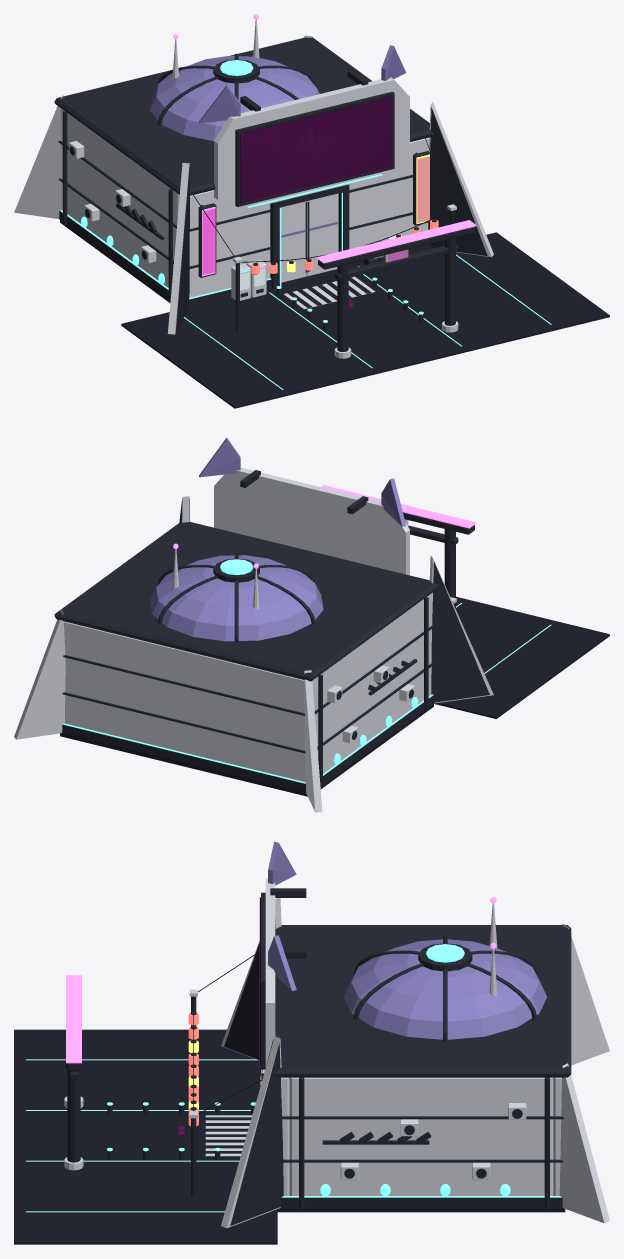
Rendered from SummonHall.fbx.
The picture shows the model from 3 angles, top to bottom: view 1: azimuth 30°, elevation 25°; view 2: azimuth 150°, elevation 25°; view 3: azimuth 270°, elevation 25°; orthographic projection. The views are drawn at different scales.
Visible parts, largest first — view 1: Floor_Plaza__floor, Deco_graphite__graphite, Deco_pearl__pearl, Roof_Main__graphite, Deco_screen__screen, MK_Screen, Wall_L__pearl, Deco_lavender__lavender, Wall_FrontL__pearl, Wall_FrontR__pearl, Deco_bio__bio, Deco_magenta__magenta (+7 smaller); view 2: Wall_Back__pearl, Roof_Main__graphite, Deco_pearl__pearl, Deco_graphite__graphite, Deco_lavender__lavender, Floor_Plaza__floor, Wall_L__pearl, Deco_bio__bio, Floor_Main__floor, Deco_magenta__magenta; view 3: Floor_Plaza__floor, Roof_Main__graphite, Wall_R__pearl, Deco_graphite__graphite, Deco_lavender__lavender, Deco_pearl__pearl, Deco_bio__bio, Deco_magenta__magenta, Floor_Main__floor, Deco_floor__floor, Wall_Back__pearl, Wall_FrontR__pearl (+1 smaller).
Boxes of the visible parts, bbox=[...] form: Floor_Plaza__floor: bbox=[121, 232, 609, 408]; Deco_graphite__graphite: bbox=[58, 53, 487, 351]; Deco_pearl__pearl: bbox=[14, 19, 493, 358]; Roof_Main__graphite: bbox=[54, 37, 433, 195]; Deco_screen__screen: bbox=[240, 96, 392, 203]; MK_Screen: bbox=[241, 97, 392, 203]; Wall_L__pearl: bbox=[67, 113, 179, 287]; Deco_lavender__lavender: bbox=[150, 45, 406, 258]; Wall_FrontL__pearl: bbox=[189, 190, 270, 297]; Wall_FrontR__pearl: bbox=[338, 137, 429, 251]; Deco_bio__bio: bbox=[60, 60, 551, 389]; Deco_magenta__magenta: bbox=[173, 14, 476, 276]; Wall_Back__pearl: bbox=[64, 621, 314, 781]; Roof_Main__graphite: bbox=[54, 521, 439, 681]; Deco_pearl__pearl: bbox=[14, 467, 493, 812]; Deco_graphite__graphite: bbox=[62, 470, 489, 792]; Deco_lavender__lavender: bbox=[150, 437, 406, 641]; Floor_Plaza__floor: bbox=[434, 596, 609, 718]; Wall_L__pearl: bbox=[314, 596, 427, 773]; Deco_bio__bio: bbox=[63, 559, 551, 783]; Floor_Main__floor: bbox=[60, 704, 433, 796]; Deco_magenta__magenta: bbox=[173, 485, 476, 568]; Floor_Plaza__floor: bbox=[14, 1029, 277, 1244]; Roof_Main__graphite: bbox=[275, 925, 571, 1077]; Wall_R__pearl: bbox=[289, 1077, 553, 1195]; Deco_graphite__graphite: bbox=[66, 888, 563, 1225]; Deco_lavender__lavender: bbox=[268, 841, 546, 1039]; Deco_pearl__pearl: bbox=[64, 878, 609, 1228]; Deco_bio__bio: bbox=[26, 944, 561, 1212]; Deco_magenta__magenta: bbox=[66, 897, 496, 1073]; Floor_Main__floor: bbox=[277, 1208, 565, 1212]; Deco_floor__floor: bbox=[205, 1117, 251, 1153]; Wall_Back__pearl: bbox=[553, 1077, 561, 1195]; Wall_FrontR__pearl: bbox=[281, 1077, 289, 1195].
Size of the model in its own units: 84 by 46.5 by 99.46.
